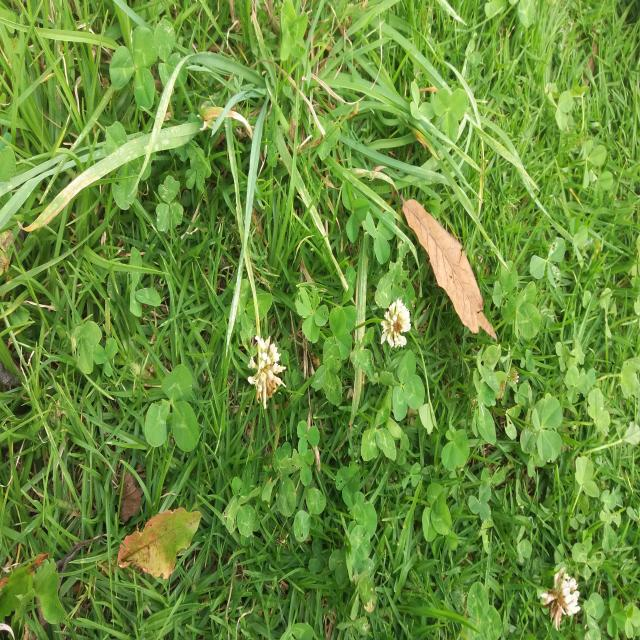Four Leaf Clover: (532, 397, 563, 462), (296, 286, 329, 343), (441, 429, 470, 471)
